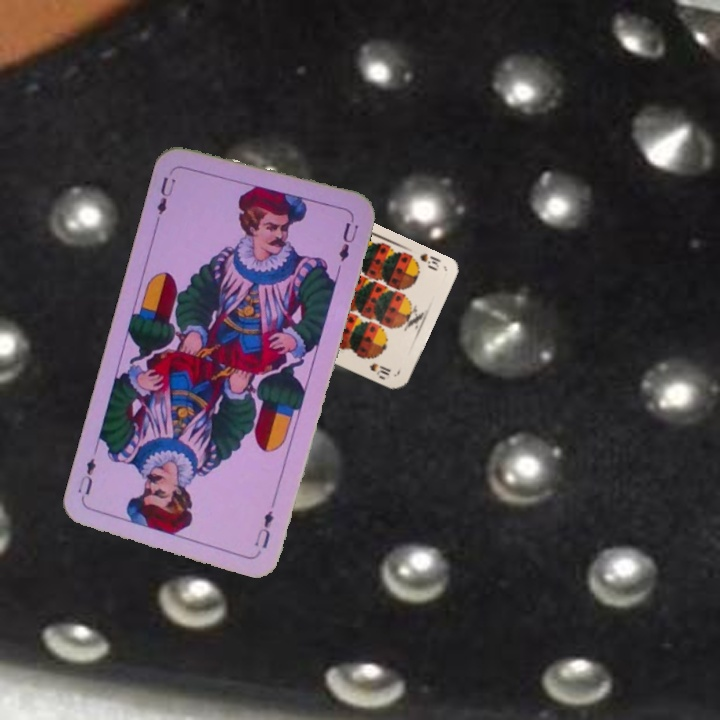EU: (152, 173, 179, 224), (250, 506, 276, 551)
S10: (416, 249, 443, 274)
